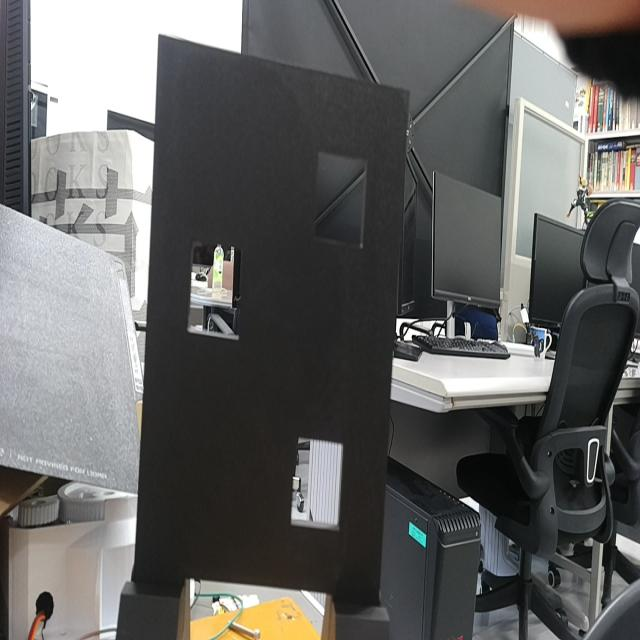Obstacle: (188, 242, 242, 342), (314, 152, 368, 247), (291, 438, 344, 530)
Wall: (135, 36, 411, 600)
